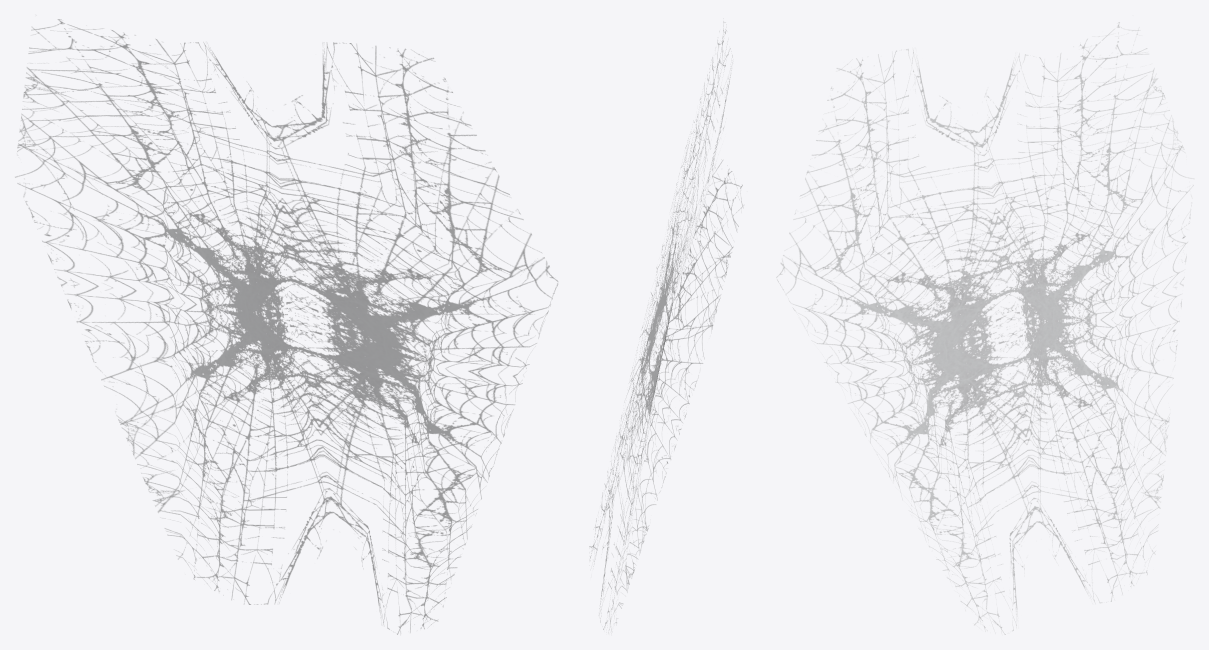
Rendered from SM_CobWeb.002.fbx.
3 views of the same model, side by side, from view 1: azimuth 30°, elevation 25°; view 2: azimuth 150°, elevation 25°; view 3: azimuth 270°, elevation 25° (orthographic). The views are drawn at different scales.
Visible parts, largest first — view 1: SM_CobWeb.002; view 2: SM_CobWeb.002; view 3: SM_CobWeb.002.
Part boxes in pixels (x1,y1,x2,y2): SM_CobWeb.002: (15, 19, 557, 634); SM_CobWeb.002: (589, 22, 742, 629); SM_CobWeb.002: (776, 22, 1193, 634).
Bounding box in the file's own units: 0.5469 × 1.16 × 0.8043.
